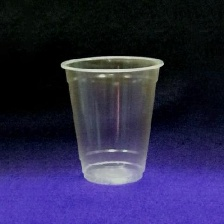glass: (55, 51, 169, 190)
